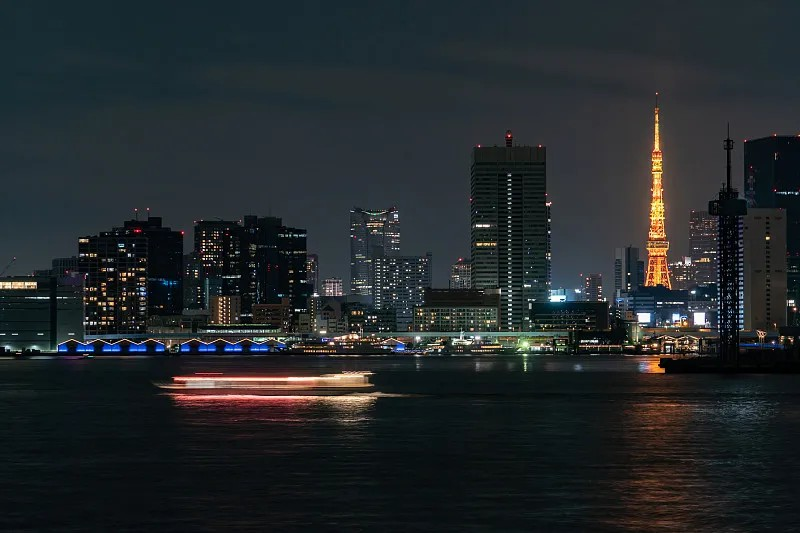Tokyo: (643, 89, 674, 291)
